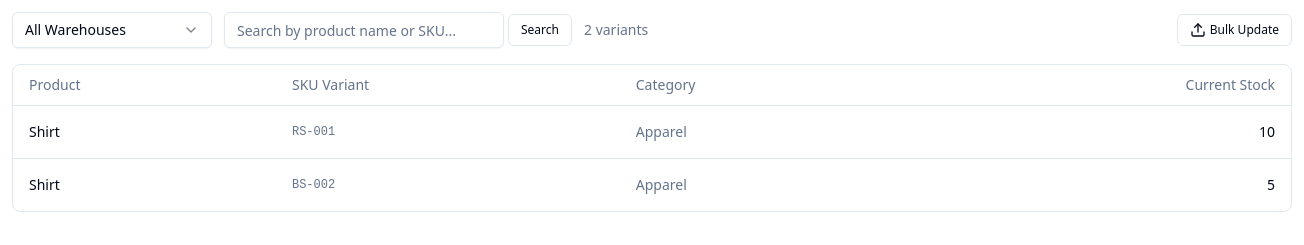
Scenario: inline +/−/= buttons › "−" button locks type as "min" — only − button remains
This screenshot has width=1304, height=245.
Step 1. Click the dropdown → (112, 30), box [12,12,212,48]
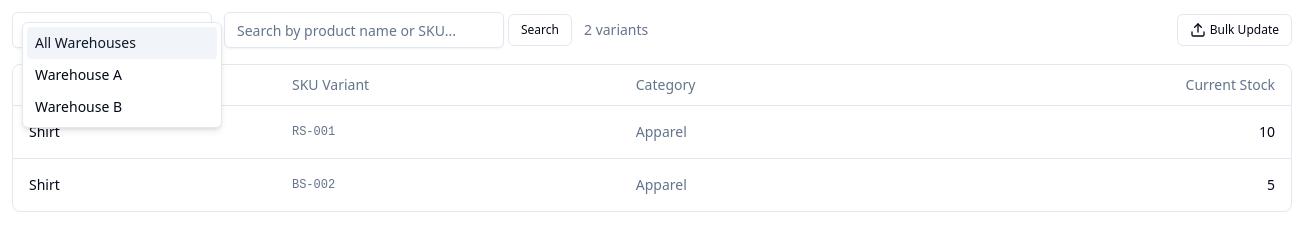
Step 2. Click the option "Warehouse A" → (78, 74), box [35,65,122,84]
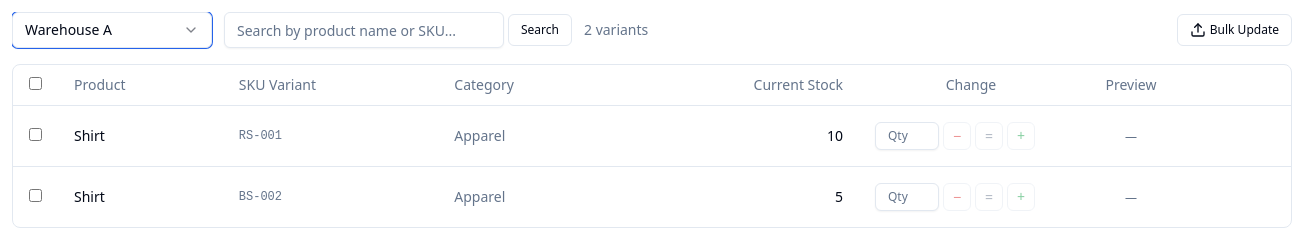
Step 3. Type "3" into the number field with placeholder "Qty" in the row of "RS-001" → (907, 136), box [875,122,939,150]
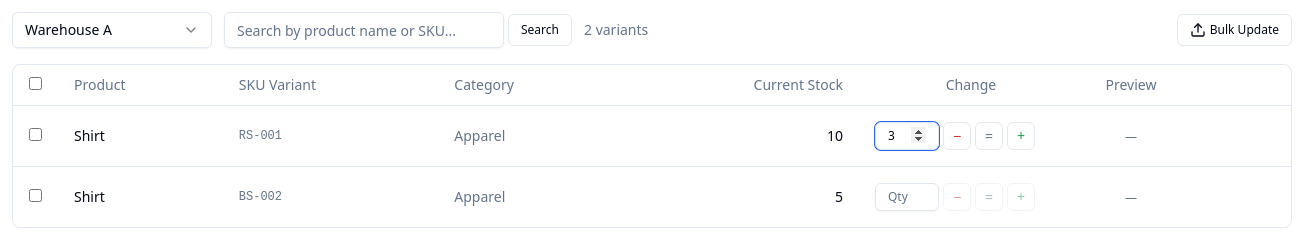
Step 4. Click the button titled "Subtract" in the row of "RS-001" → (957, 136), box [943,122,971,150]
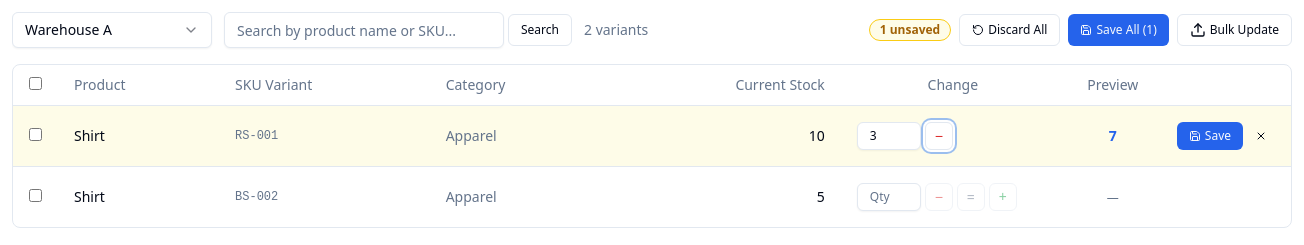
Expected: the button titled "Subtract" in the row of "RS-001" is shown, [925,122,953,150]
Expected: the button "Save All (1)" is shown, [1068,14,1169,46]
